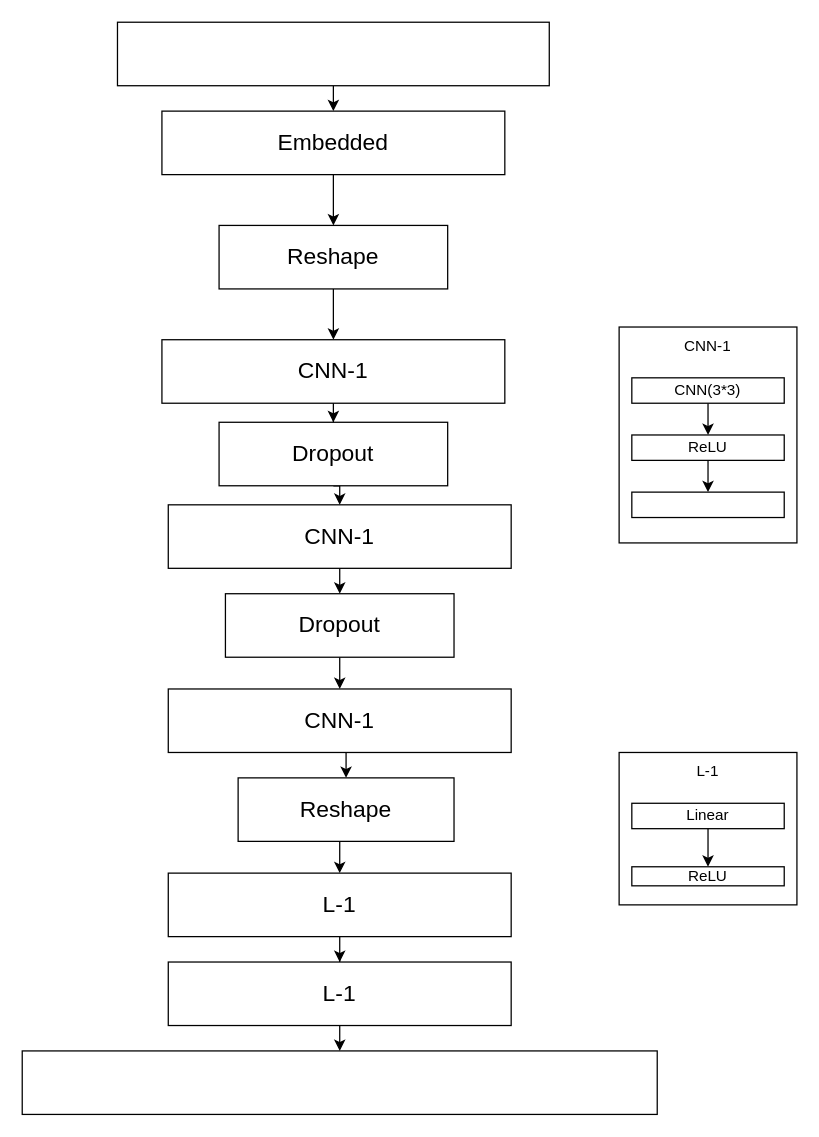
This 819x1137 diagram has some shape labels left out. Each missing label, with the centre of its shape:
"MaxPool(2,2)" belongs at point 707,504.
"Output" belongs at point 339,1082.
"Pre-processed Dataset" belongs at point 332,53.
